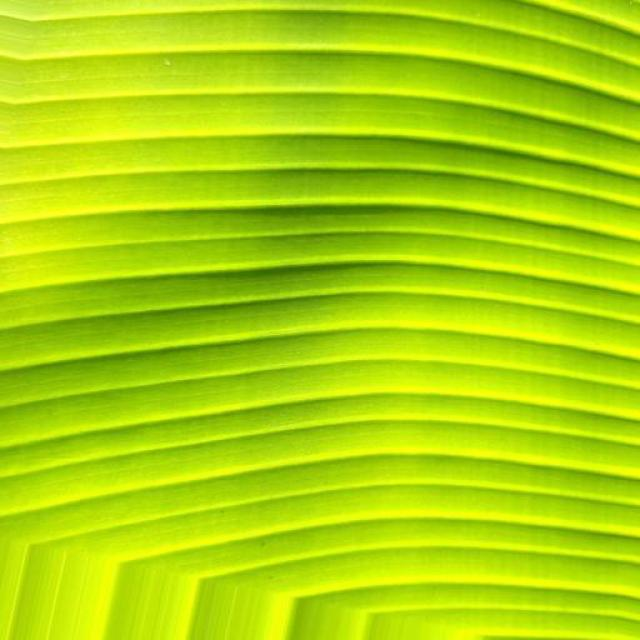Black_leaf_spot: (0, 0, 589, 604)
